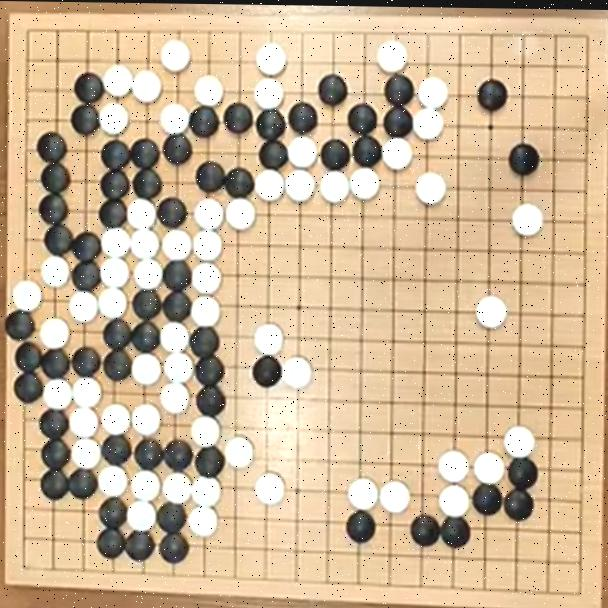corners: (10, 14, 62, 59), (560, 12, 604, 60), (6, 542, 52, 581), (555, 570, 595, 604)
